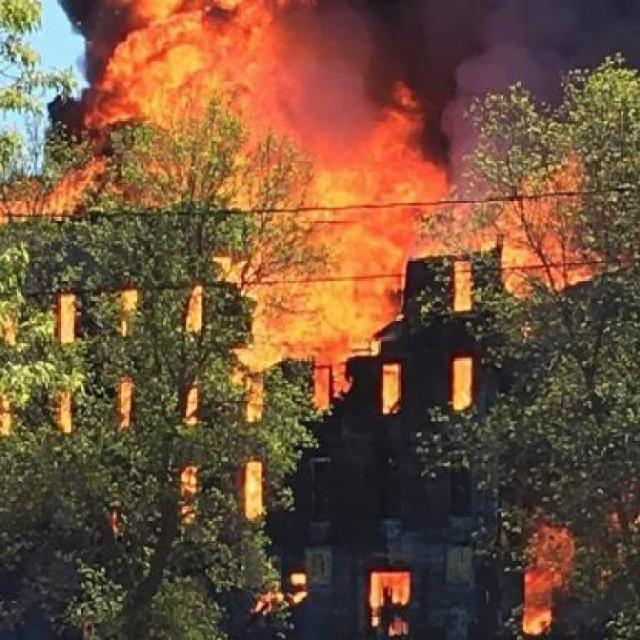Fire: (66, 0, 423, 402), (11, 284, 252, 562), (426, 180, 600, 423), (294, 523, 572, 640)
Smoke: (377, 0, 640, 217)
